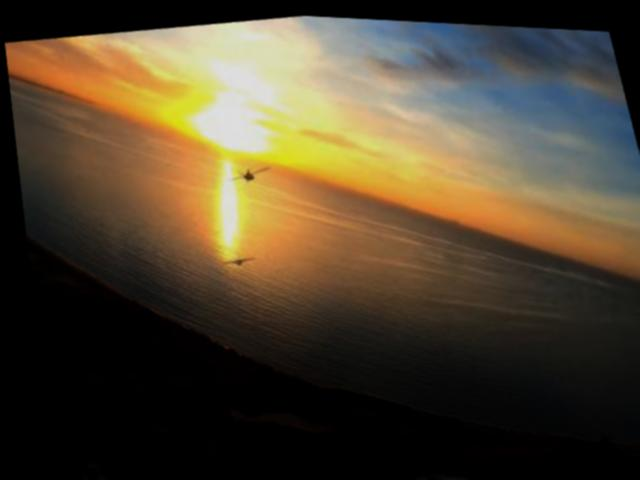uav: (221, 157, 271, 186)
